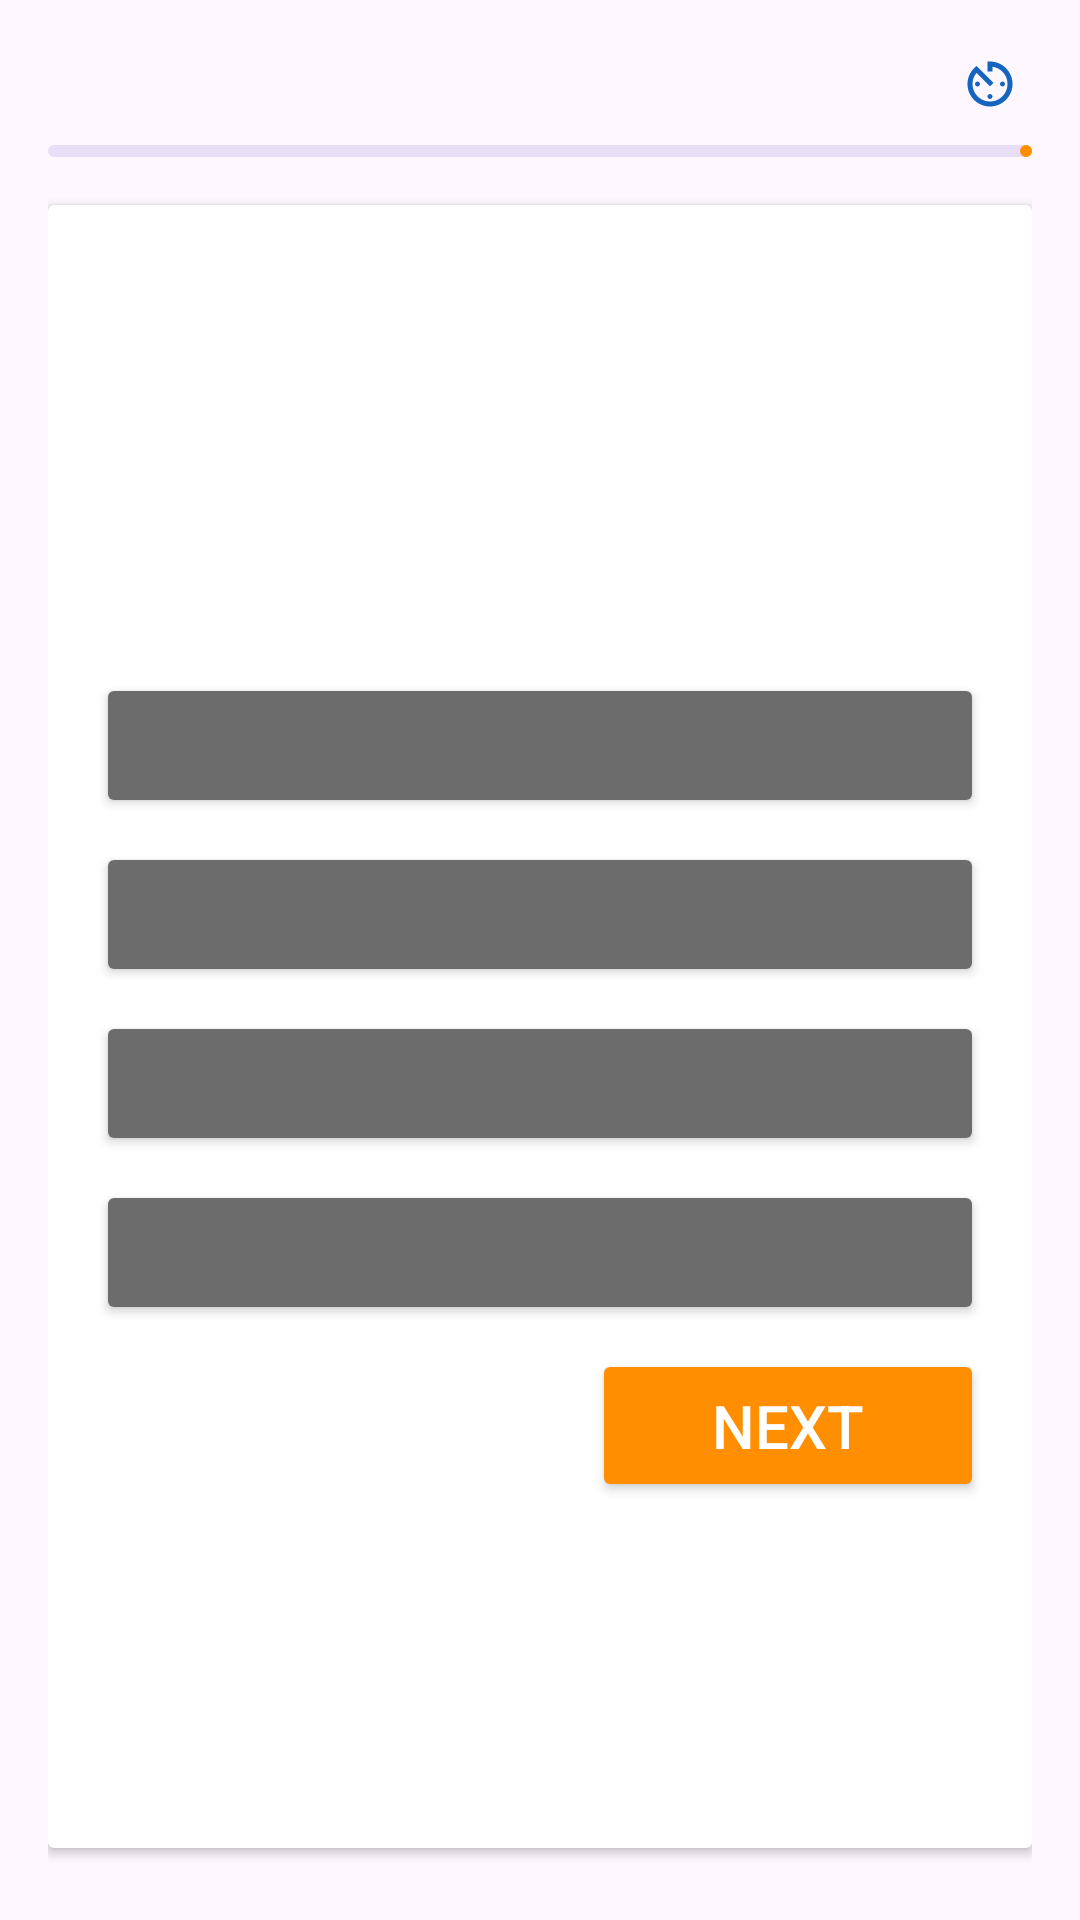

Where icons sit on this 1080 × 1920 app screen, as (x1=x1, y1=y1, x2=x2, y2=y2):
av timer: (x1=967, y1=61, x2=1013, y2=107)
